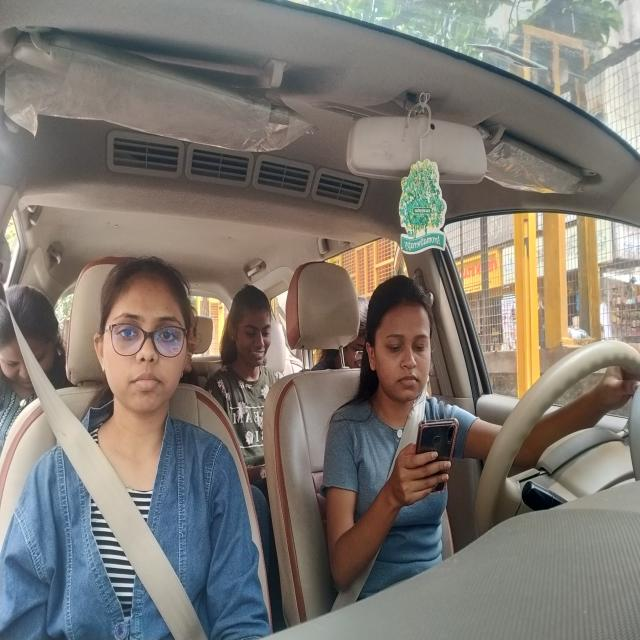mobile: (415, 417, 457, 496)
person: (90, 256, 194, 421), (370, 279, 434, 409), (0, 284, 68, 397), (228, 282, 274, 374), (346, 292, 370, 370), (185, 303, 203, 384)
